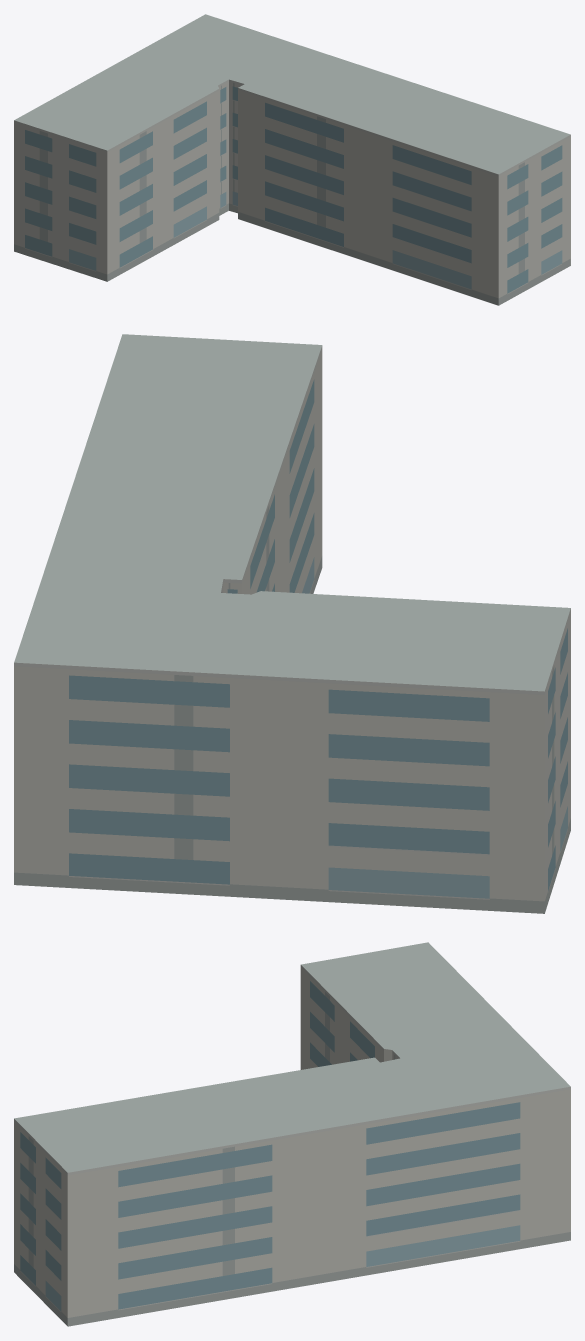
The model's file is survey-upis-32705841.glb.
3 renders of one model, top to bottom at view 1: azimuth 30°, elevation 25°; view 2: azimuth 150°, elevation 25°; view 3: azimuth 270°, elevation 25°, orthographic. The views are drawn at different scales.
Visible parts, largest first — view 1: survey-upis-32705841.tmp; view 2: survey-upis-32705841.tmp; view 3: survey-upis-32705841.tmp.
Part boxes in pixels (x1,y1,x2,y2): survey-upis-32705841.tmp: (14,14,570,305); survey-upis-32705841.tmp: (14,334,570,913); survey-upis-32705841.tmp: (14,942,570,1326).
Size of the model in its own units: 49.03 by 15.25 by 50.05.
